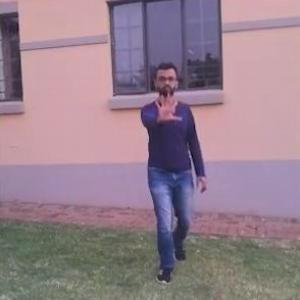follow_hand: (148, 87, 184, 126)
